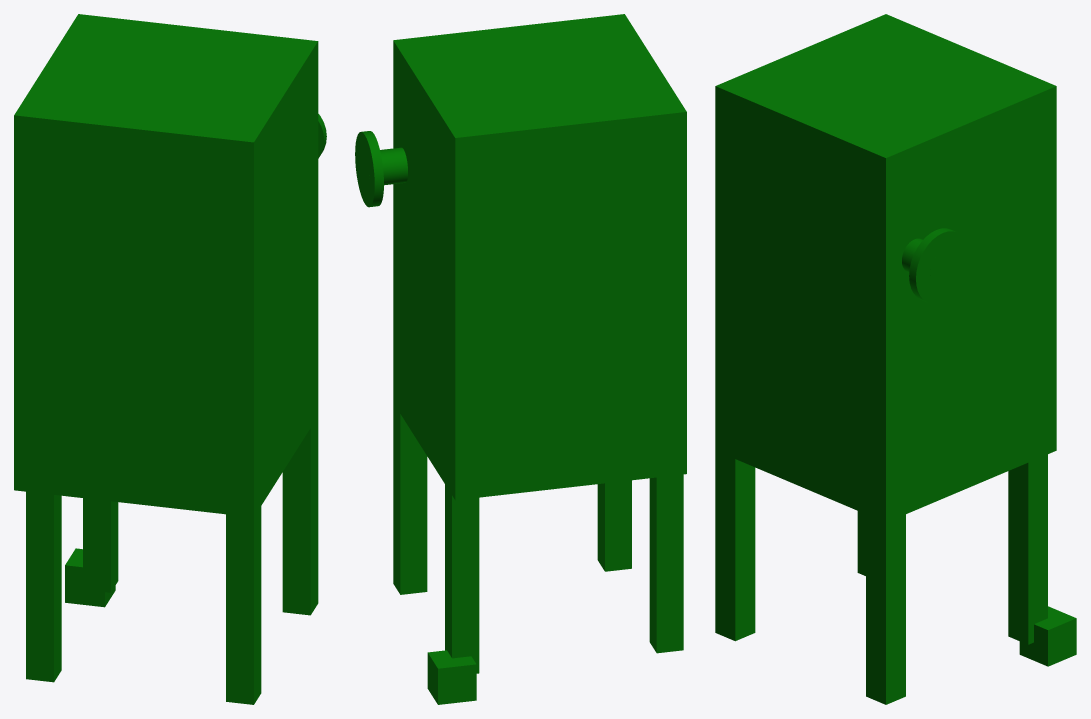
File: Image-1711348063337-2281289626000_71-SM52M.fbx
3 views of the same model, side by side, from view 1: azimuth 30°, elevation 25°; view 2: azimuth 150°, elevation 25°; view 3: azimuth 270°, elevation 25° (orthographic). The views are drawn at different scales.
Parts seen in each view (by area): view 1: BOX 1 of SUBEQUIPMENT /71-SM52M-PRIM, BOX 2 of SUBEQUIPMENT /71-SM52M-PRIM, BOX 4 of SUBEQUIPMENT /71-SM52M-PRIM, BOX 3 of SUBEQUIPMENT /71-SM52M-PRIM, BOX 5 of SUBEQUIPMENT /71-SM52M-PRIM, BOX 1 of SUBEQUIPMENT /71-SM55M; view 2: BOX 1 of SUBEQUIPMENT /71-SM52M-PRIM, BOX 4 of SUBEQUIPMENT /71-SM52M-PRIM, BOX 3 of SUBEQUIPMENT /71-SM52M-PRIM, BOX 5 of SUBEQUIPMENT /71-SM52M-PRIM, BOX 2 of SUBEQUIPMENT /71-SM52M-PRIM, /71-SM52M/N1, BOX 1 of SUBEQUIPMENT /71-SM55M; view 3: BOX 1 of SUBEQUIPMENT /71-SM52M-PRIM, BOX 2 of SUBEQUIPMENT /71-SM52M-PRIM, BOX 3 of SUBEQUIPMENT /71-SM52M-PRIM, BOX 5 of SUBEQUIPMENT /71-SM52M-PRIM, /71-SM52M/N1, BOX 1 of SUBEQUIPMENT /71-SM55M, BOX 4 of SUBEQUIPMENT /71-SM52M-PRIM.
Boxes of the visible parts, box(x1,y1,x2,y2) form: BOX 1 of SUBEQUIPMENT /71-SM52M-PRIM: box(14, 14, 318, 517); BOX 2 of SUBEQUIPMENT /71-SM52M-PRIM: box(226, 506, 261, 704); BOX 4 of SUBEQUIPMENT /71-SM52M-PRIM: box(26, 491, 61, 682); BOX 3 of SUBEQUIPMENT /71-SM52M-PRIM: box(282, 416, 318, 615); BOX 5 of SUBEQUIPMENT /71-SM52M-PRIM: box(83, 498, 118, 592); BOX 1 of SUBEQUIPMENT /71-SM55M: box(65, 548, 115, 607); BOX 1 of SUBEQUIPMENT /71-SM52M-PRIM: box(393, 14, 686, 500); BOX 4 of SUBEQUIPMENT /71-SM52M-PRIM: box(649, 474, 683, 653); BOX 3 of SUBEQUIPMENT /71-SM52M-PRIM: box(393, 403, 427, 594); BOX 5 of SUBEQUIPMENT /71-SM52M-PRIM: box(445, 484, 479, 673); BOX 2 of SUBEQUIPMENT /71-SM52M-PRIM: box(597, 480, 631, 571); /71-SM52M/N1: box(355, 131, 407, 207); BOX 1 of SUBEQUIPMENT /71-SM55M: box(427, 650, 476, 704); BOX 1 of SUBEQUIPMENT /71-SM52M-PRIM: box(715, 14, 1056, 522); BOX 2 of SUBEQUIPMENT /71-SM52M-PRIM: box(715, 450, 755, 641); BOX 3 of SUBEQUIPMENT /71-SM52M-PRIM: box(866, 514, 905, 704); BOX 5 of SUBEQUIPMENT /71-SM52M-PRIM: box(1008, 454, 1047, 644); /71-SM52M/N1: box(902, 228, 969, 303); BOX 1 of SUBEQUIPMENT /71-SM55M: box(1019, 606, 1076, 666); BOX 4 of SUBEQUIPMENT /71-SM52M-PRIM: box(857, 511, 865, 575).
Bounding box in the file's own units: 0.9157 × 0.898 × 1.55.
